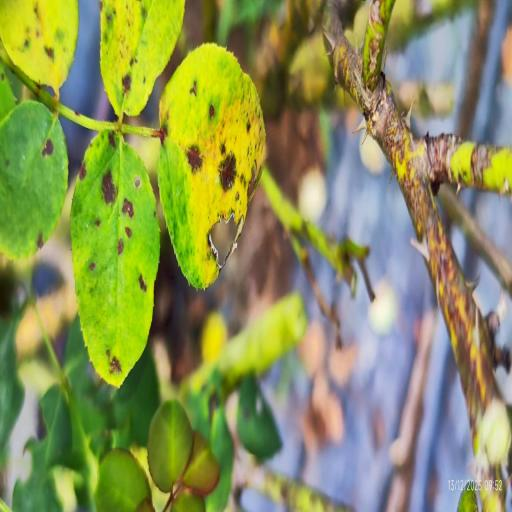black_spot: (157, 44, 265, 288), (71, 132, 160, 387), (0, 100, 68, 258), (100, 0, 184, 119), (0, 0, 78, 93)
